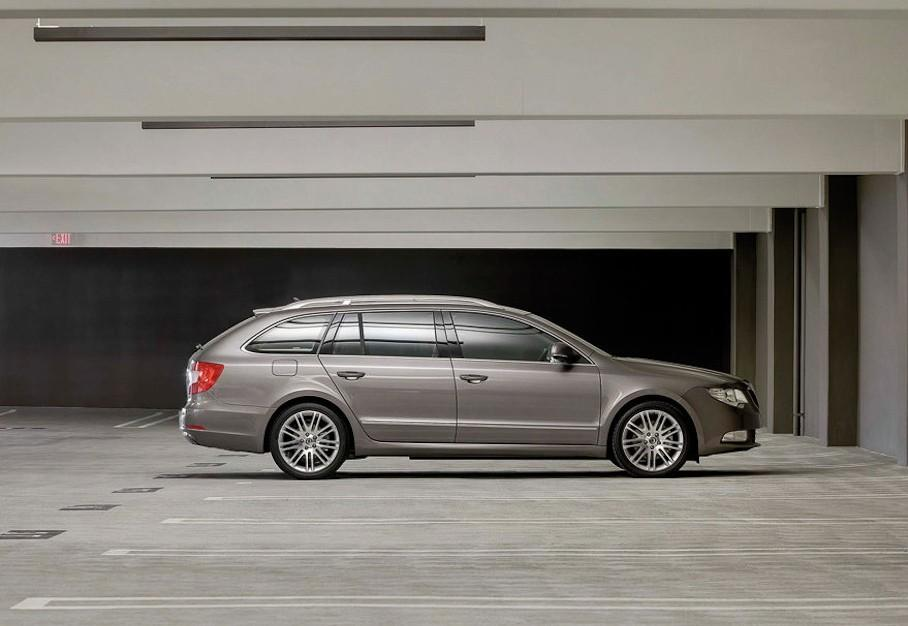Wagon: (179, 294, 761, 478)
